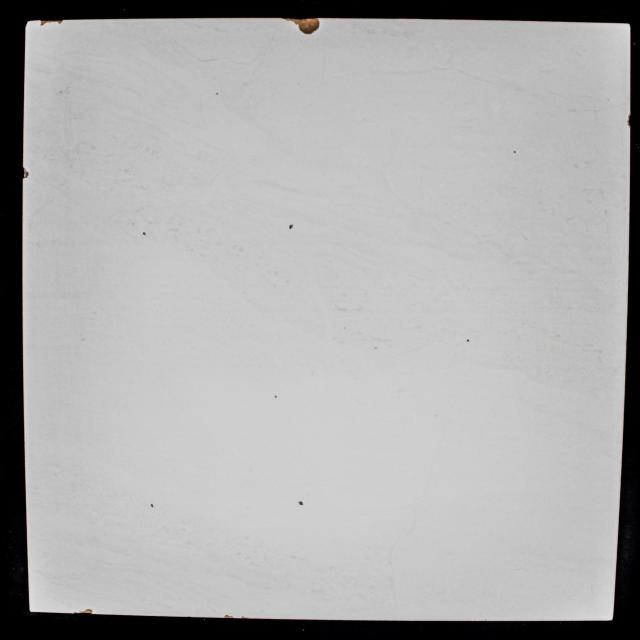edge-chipping: (278, 17, 320, 36), (40, 18, 64, 26), (73, 608, 93, 614), (22, 167, 29, 180), (627, 112, 632, 128), (223, 614, 234, 620)
hole: (298, 500, 303, 506), (289, 223, 293, 230), (142, 232, 146, 236), (513, 150, 517, 154), (274, 395, 278, 399), (151, 503, 154, 508), (466, 338, 469, 342), (215, 92, 219, 95)
